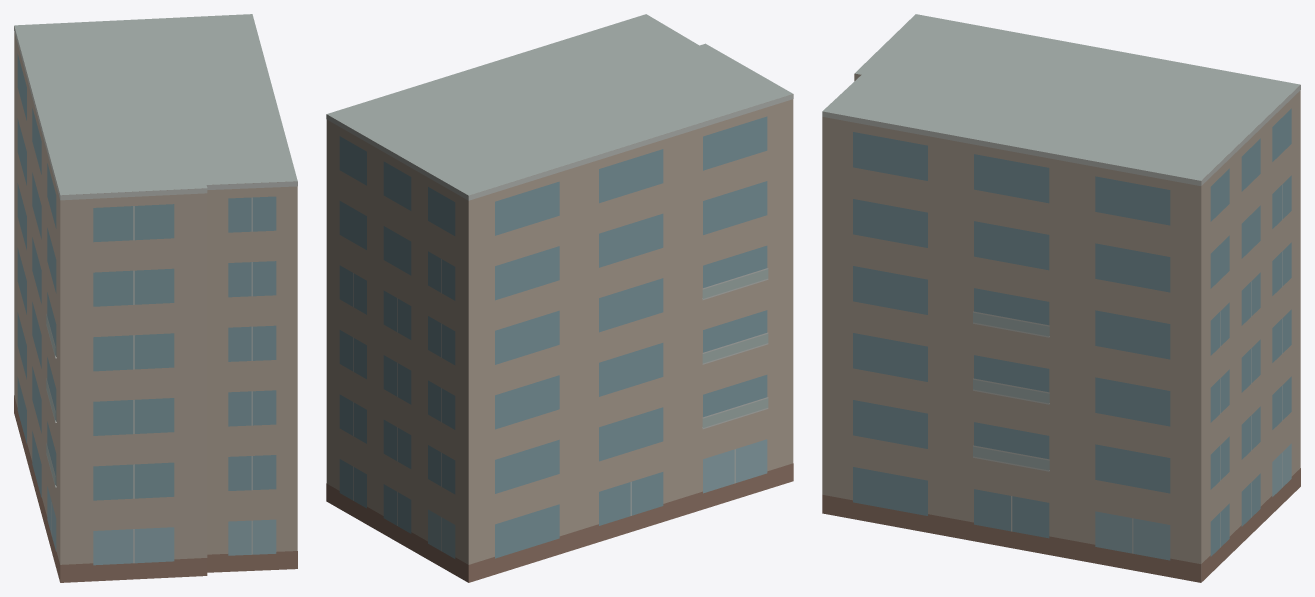
The model's file is survey-upis-32970024.glb.
3 views of the same model, side by side, from view 1: azimuth 30°, elevation 25°; view 2: azimuth 150°, elevation 25°; view 3: azimuth 270°, elevation 25° (orthographic). The views are drawn at different scales.
Parts seen in each view (by area): view 1: survey-upis-32970024.tmp; view 2: survey-upis-32970024.tmp; view 3: survey-upis-32970024.tmp.
Part boxes in pixels (box(x1,y1,x2,y2)): survey-upis-32970024.tmp: box(14, 14, 297, 582); survey-upis-32970024.tmp: box(326, 14, 793, 582); survey-upis-32970024.tmp: box(822, 14, 1300, 582).
Bounding box in the file's own units: 16.3 × 18.3 × 19.75.
